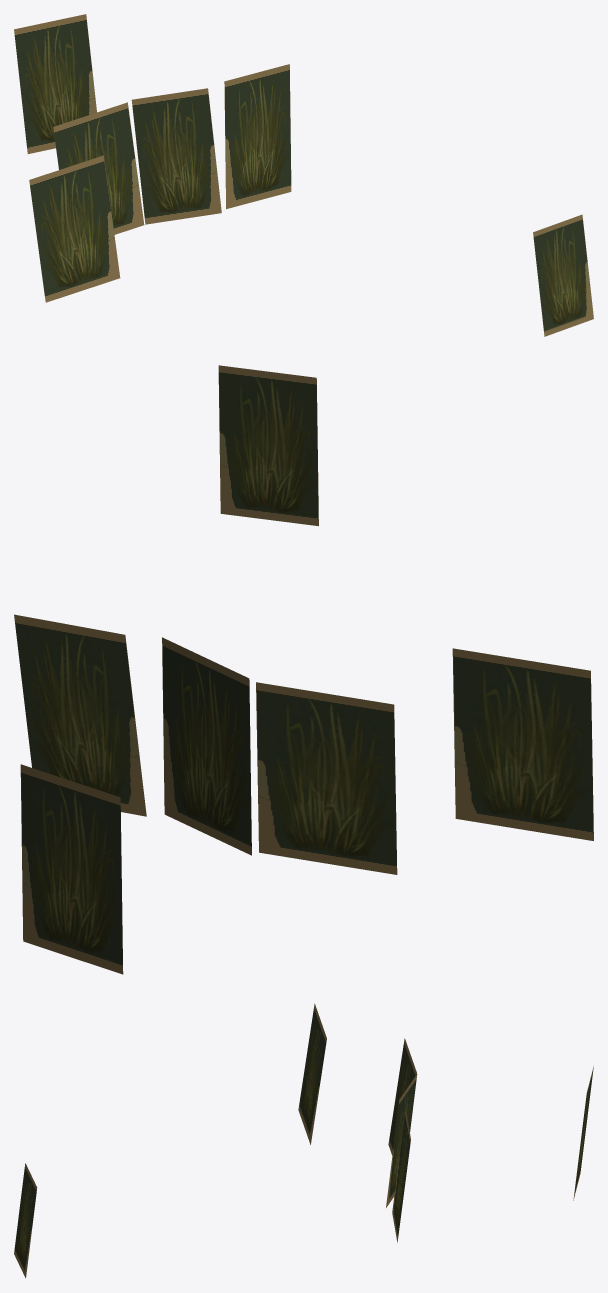
The model's file is object_grass_polys04.fbx.
3 views of the same model, one above another, from view 1: azimuth 30°, elevation 25°; view 2: azimuth 150°, elevation 25°; view 3: azimuth 270°, elevation 25° (orthographic). The views are drawn at different scales.
Visible parts, largest first — view 1: obj0.061; view 2: obj0.061; view 3: obj0.061.
Part boxes in pixels (<box>): obj0.061: <box>14,14,593,336</box>; obj0.061: <box>14,365,593,974</box>; obj0.061: <box>14,1003,593,1278</box>.
Bounding box in the file's own units: 7.55 × 2.23 × 10.72.
